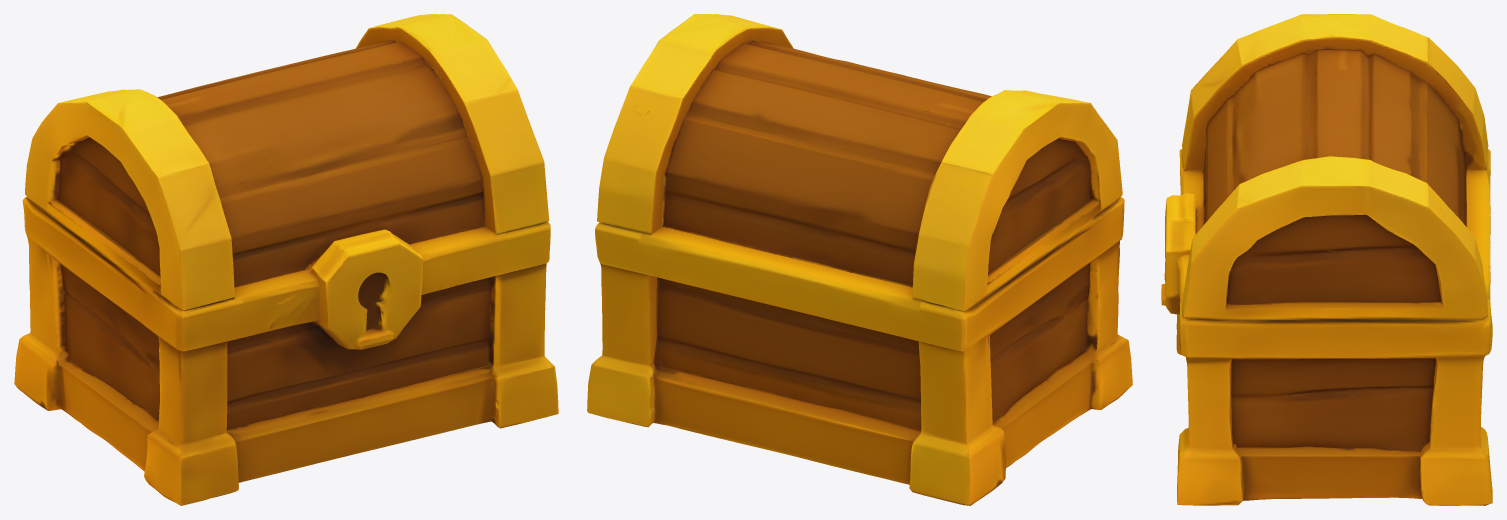
File: base_basic_shaded.fbx
3 renders of one model, left to right at view 1: azimuth 30°, elevation 25°; view 2: azimuth 150°, elevation 25°; view 3: azimuth 270°, elevation 25°, orthographic. The views are drawn at different scales.
Visible parts, largest first — view 1: model; view 2: model; view 3: model.
Part boxes in pixels (bbox=[...]): model: bbox=[14, 14, 558, 505]; model: bbox=[587, 14, 1132, 505]; model: bbox=[1161, 14, 1492, 505].
Bounding box in the file's own units: 190 × 159 × 148.
